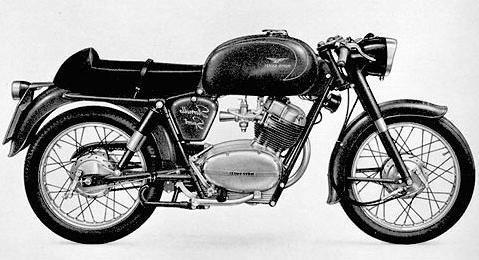motorcycle: (1, 21, 479, 250)
